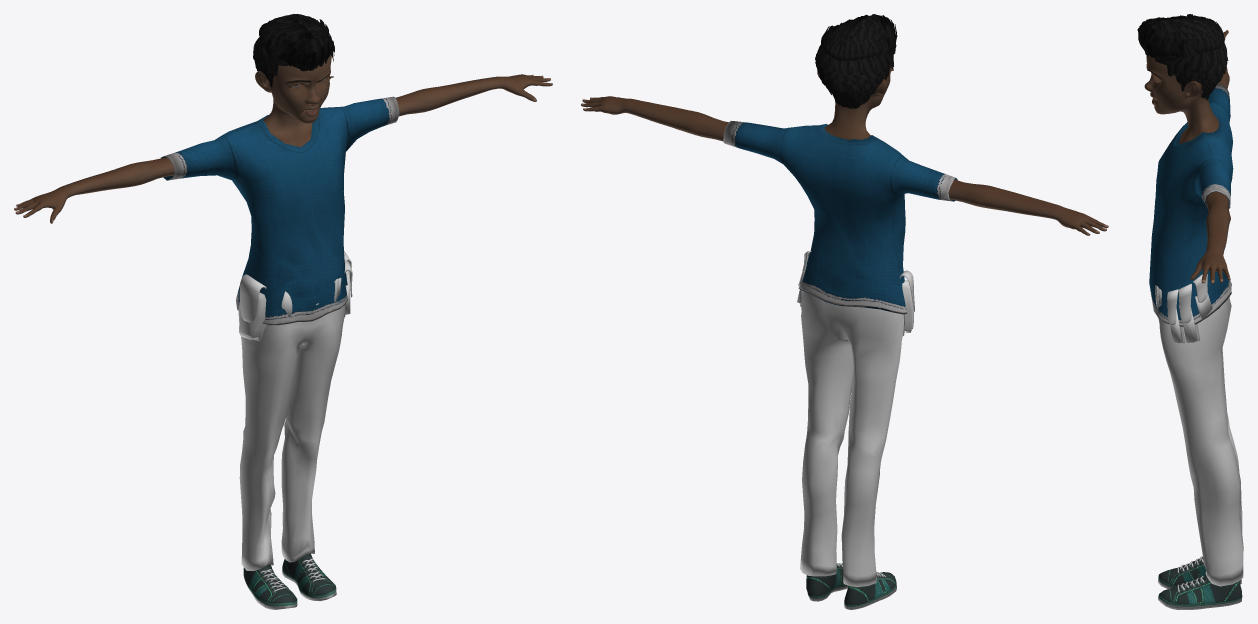
Rendered from ConfusedBoy.obj.
The picture shows the model from 3 angles, left to right: view 1: azimuth 30°, elevation 25°; view 2: azimuth 150°, elevation 25°; view 3: azimuth 270°, elevation 25°; orthographic projection. The views are drawn at different scales.
Visible parts, largest first — view 1: Tops, Bottoms, Body, Hair, Shoes; view 2: Bottoms, Tops, Body, Hair, Shoes; view 3: Bottoms, Tops, Body, Hair, Shoes.
Part boxes in pixels (box(x1,y1,x2,y2)): Tops: box(160, 96, 399, 325); Bottoms: box(238, 251, 352, 570); Body: box(14, 20, 552, 565); Hair: box(253, 14, 334, 87); Shoes: box(243, 553, 336, 609); Bottoms: box(797, 251, 914, 587); Tops: box(723, 121, 957, 314); Body: box(581, 46, 1108, 235); Hair: box(815, 14, 897, 108); Shoes: box(806, 563, 896, 609); Bottoms: box(1151, 274, 1243, 586); Tops: box(1149, 83, 1233, 326); Body: box(1144, 27, 1230, 283); Hair: box(1137, 14, 1228, 100); Shoes: box(1158, 556, 1242, 609).
Bounding box in the file's own units: 163 × 169 × 28.1.
